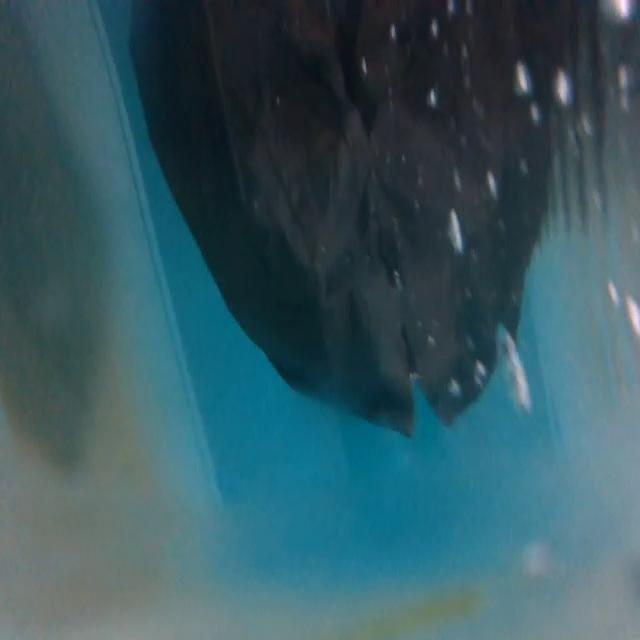plastic bags: (121, 0, 606, 453)
